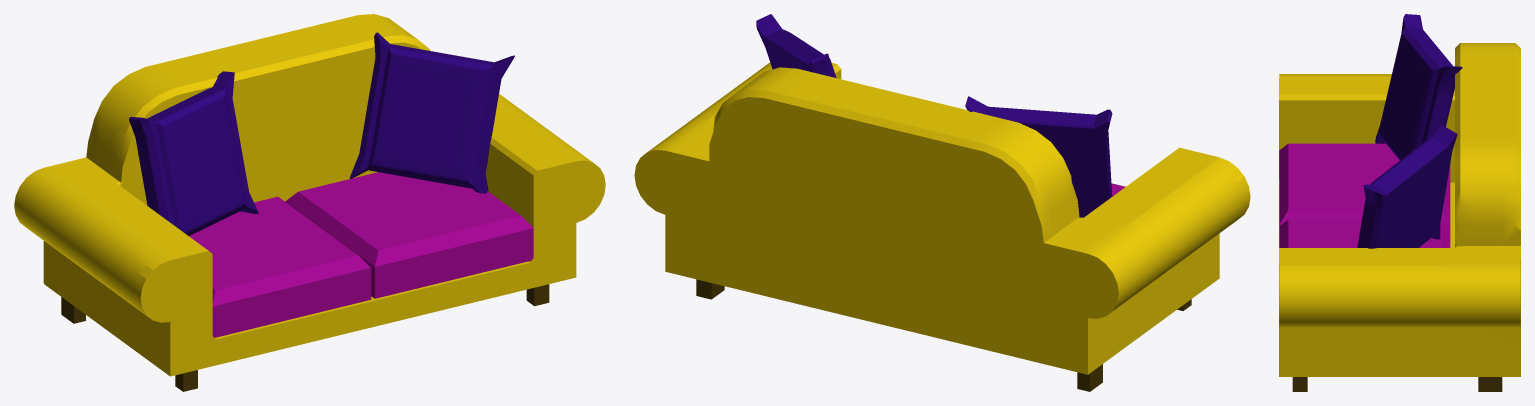
File: SofaLow.fbx
The picture shows the model from 3 angles, left to right: view 1: azimuth 30°, elevation 25°; view 2: azimuth 150°, elevation 25°; view 3: azimuth 270°, elevation 25°; orthographic projection. The views are drawn at different scales.
Parts seen in each view (by area): view 1: Sofa; view 2: Sofa; view 3: Sofa.
Part boxes in pixels (box(x1,y1,x2,y2)): Sofa: box(14, 14, 605, 391); Sofa: box(634, 14, 1250, 391); Sofa: box(1279, 14, 1520, 391).
Size of the model in its own units: 8.79 by 4.2 by 4.14.
